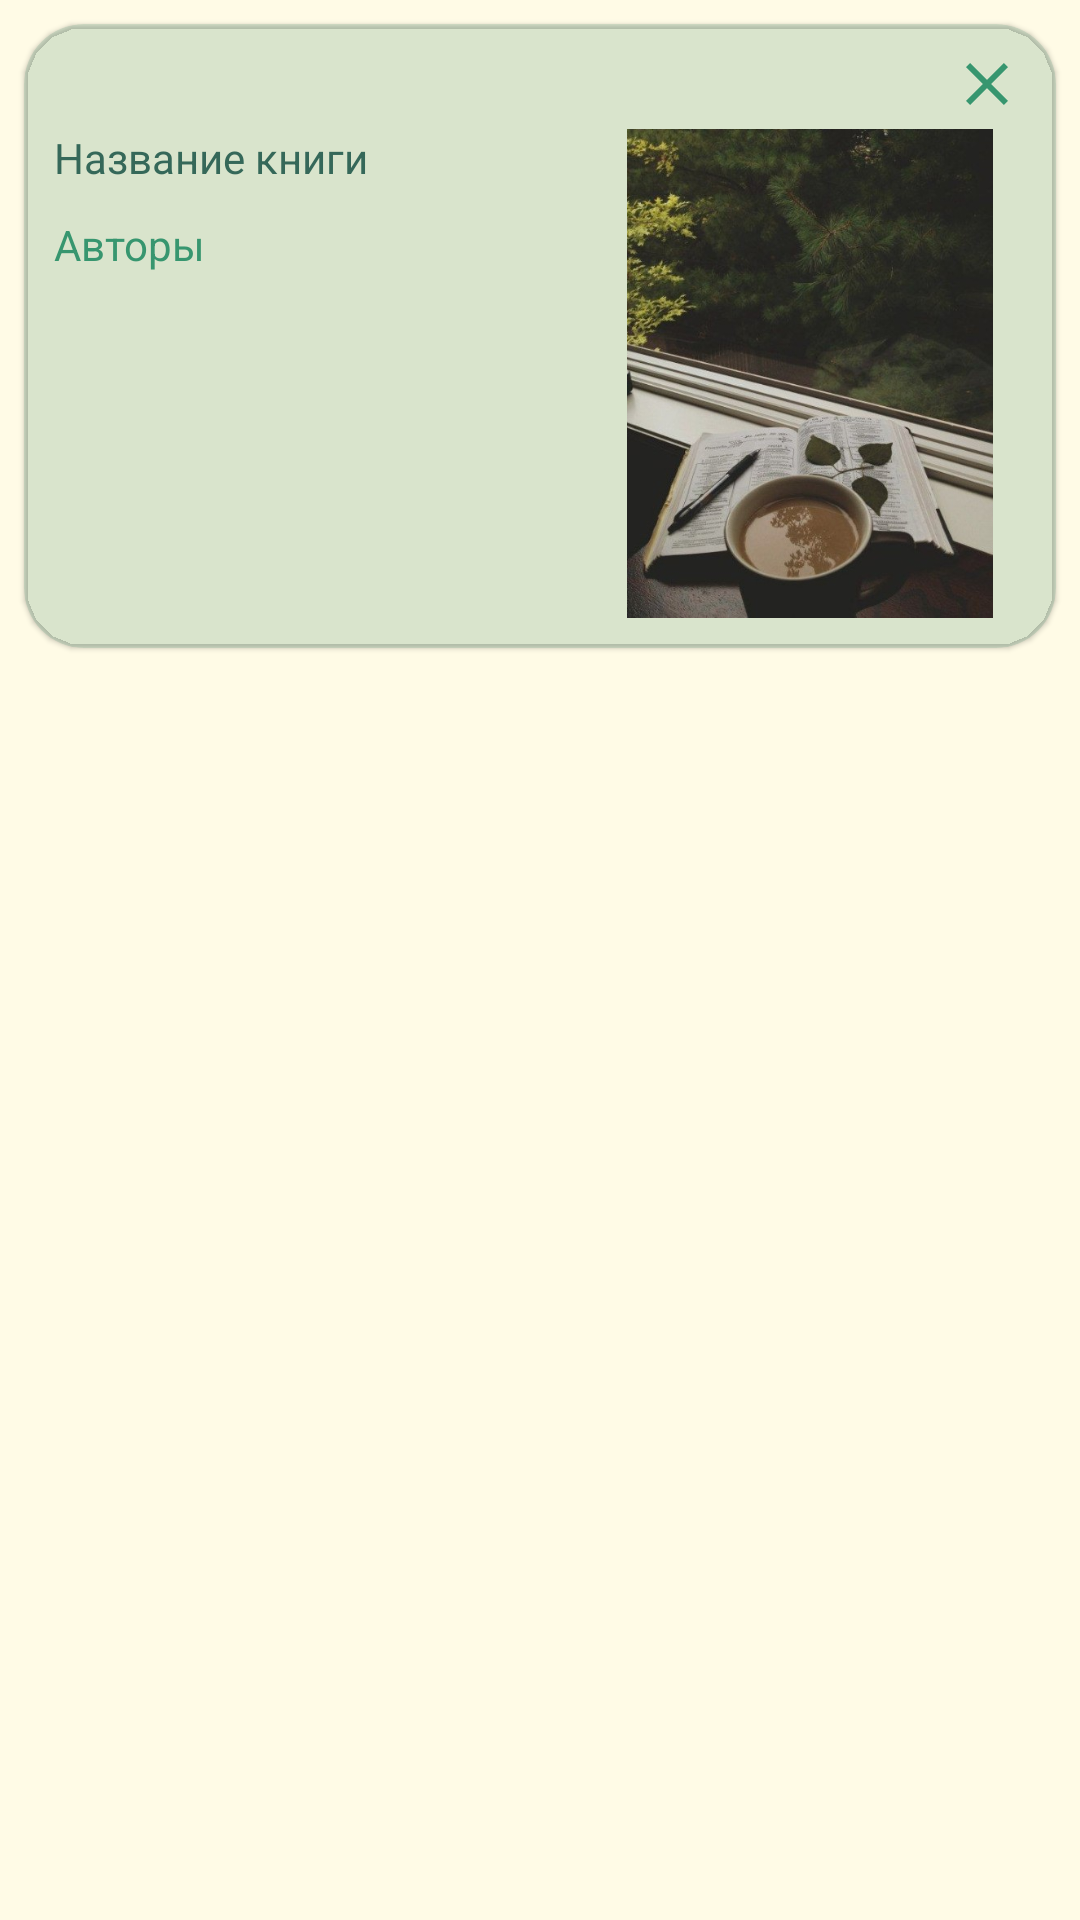

Point at icon controls on the screen. Image size 1080*1920, points as (x=x, y=y).
close: (x=987, y=84)
